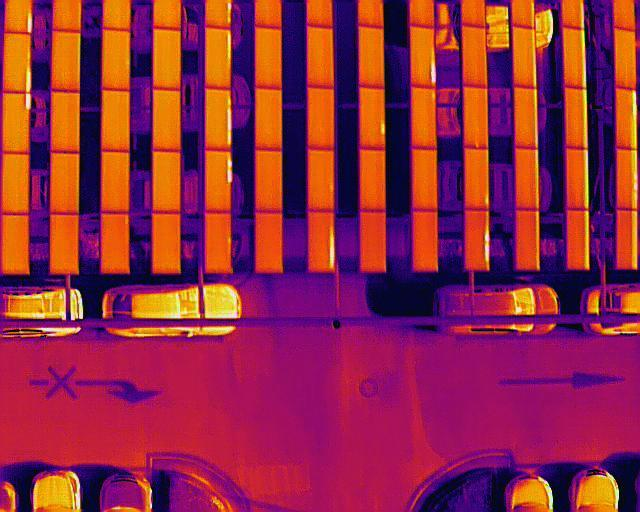Cell: (360, 84, 386, 151)
No-Anomaly: (100, 151, 130, 214), (102, 27, 131, 91), (254, 149, 282, 215), (51, 152, 80, 215), (101, 212, 130, 274), (153, 151, 181, 214), (2, 153, 30, 216), (102, 90, 130, 152), (51, 213, 79, 275), (154, 88, 181, 152), (52, 31, 80, 92), (51, 92, 79, 153), (154, 27, 181, 90), (359, 209, 386, 272), (464, 147, 490, 212), (308, 148, 334, 213), (255, 88, 282, 150), (3, 214, 30, 276), (256, 212, 283, 273), (308, 25, 334, 88), (411, 149, 437, 212), (308, 85, 333, 150), (462, 23, 487, 88), (411, 212, 438, 272), (154, 212, 181, 272), (256, 28, 282, 90), (205, 211, 231, 273), (206, 26, 231, 90), (411, 86, 436, 150), (514, 209, 540, 270), (512, 24, 536, 89), (514, 85, 538, 150), (564, 85, 588, 150), (359, 25, 384, 86), (361, 151, 386, 210), (515, 149, 539, 210), (563, 25, 586, 88), (465, 86, 488, 149), (567, 148, 589, 209), (615, 210, 637, 270), (614, 29, 636, 88), (568, 212, 590, 269), (617, 148, 637, 209)
Unclassified: (204, 151, 232, 214), (2, 94, 31, 154), (204, 88, 231, 151), (4, 32, 31, 93), (465, 208, 490, 272), (411, 25, 436, 87), (310, 211, 335, 271), (615, 88, 637, 148)
